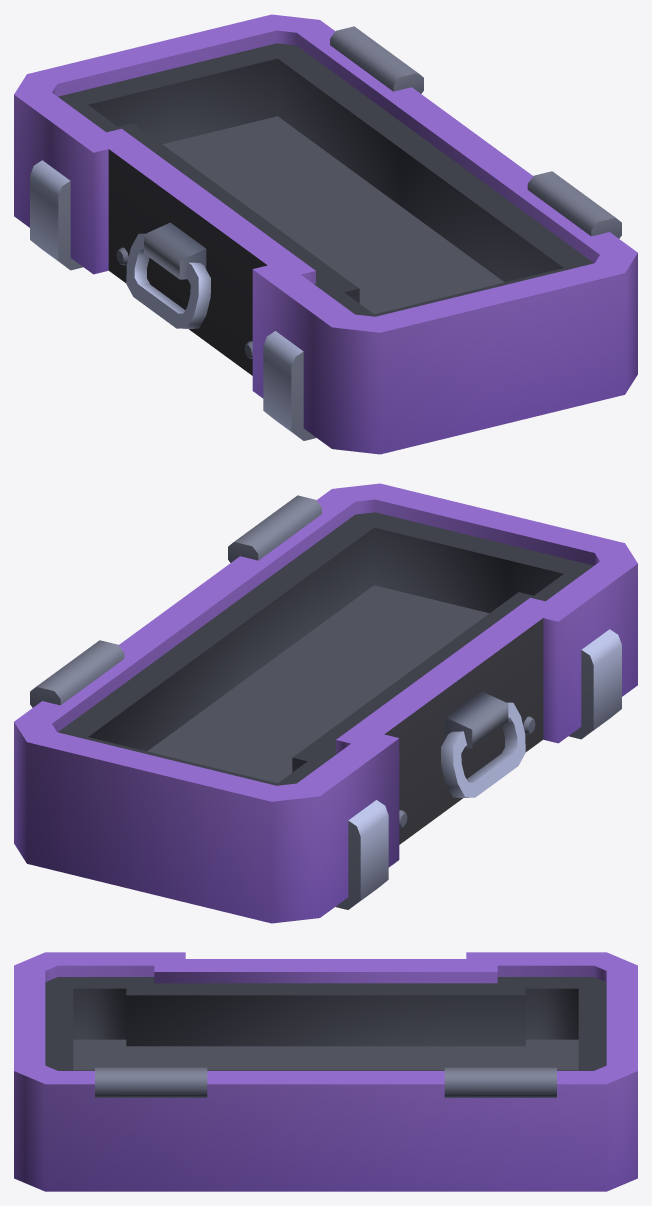
The picture shows the model from 3 angles, top to bottom: view 1: azimuth 30°, elevation 25°; view 2: azimuth 150°, elevation 25°; view 3: azimuth 270°, elevation 25°; orthographic projection. The views are drawn at different scales.
Parts seen in each view (by area): view 1: crate-medium; view 2: crate-medium; view 3: crate-medium.
Part boxes in pixels (left/top/right/bottom): crate-medium: left=14, top=14, right=637, bottom=454; crate-medium: left=14, top=483, right=637, bottom=923; crate-medium: left=14, top=952, right=637, bottom=1191.
Size of the model in its own units: 0.4946 by 0.207 by 0.9.
1 material, 1 textured.
